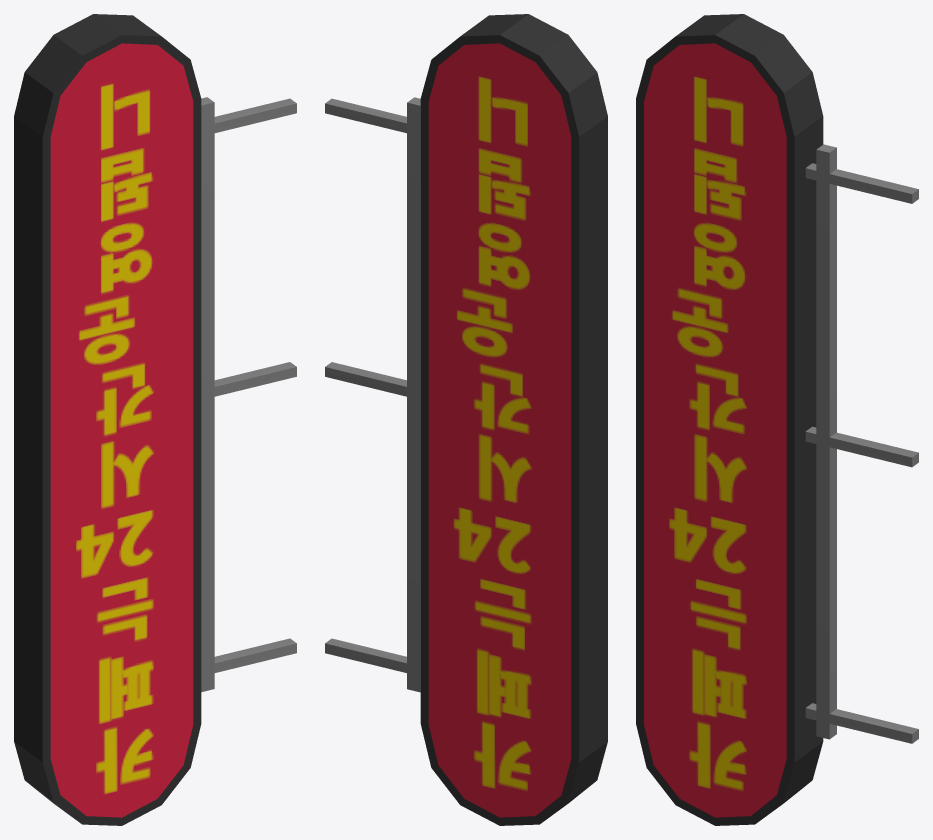
Rendered from B02_Enseigne_E_01.fbx.
3 renders of one model, left to right at view 1: azimuth 30°, elevation 25°; view 2: azimuth 150°, elevation 25°; view 3: azimuth 330°, elevation 25°, orthographic.
Parts seen in each view (by area): view 1: B02_Enseigne_E_01; view 2: B02_Enseigne_E_01; view 3: B02_Enseigne_E_01.
Boxes of the visible parts, <box> form: B02_Enseigne_E_01: <box>14,14,296,825</box>; B02_Enseigne_E_01: <box>325,14,607,825</box>; B02_Enseigne_E_01: <box>636,14,918,825</box>.
Size of the model in its own units: 312 by 890 by 58.69.
